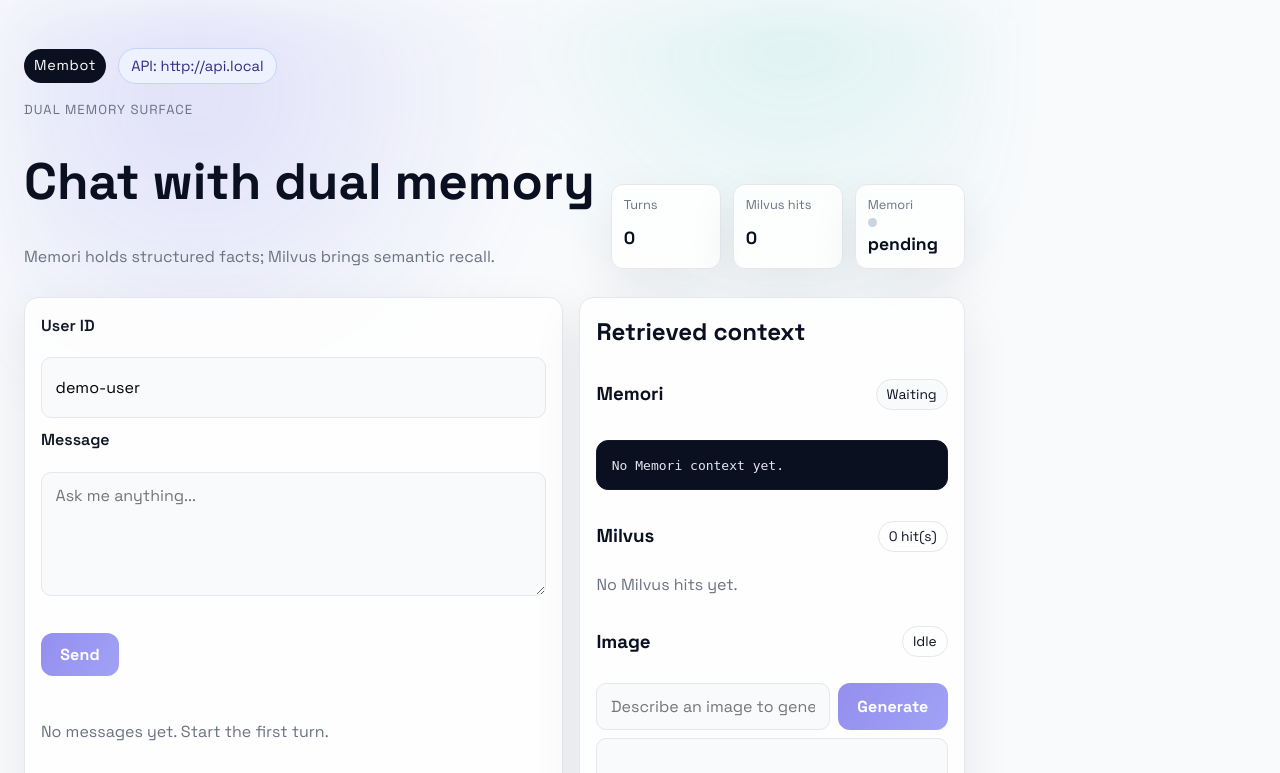
App chat flow › sends a message and renders reply and contexts
Replace the text in the field labelled "User ID" with "u1". click: (294, 388)
box: [41, 357, 546, 418]
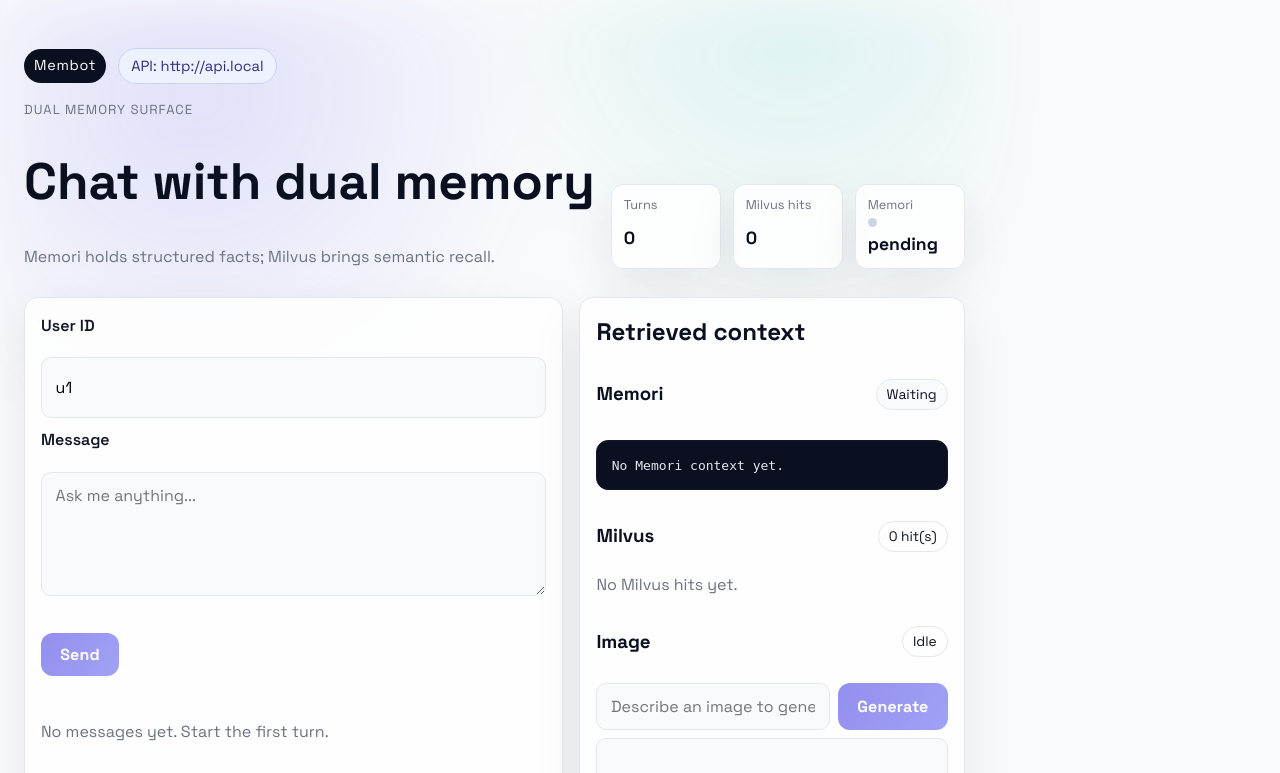
Type "Hi bot" into the text box labelled "Message". click: (294, 534)
box: [41, 472, 546, 596]
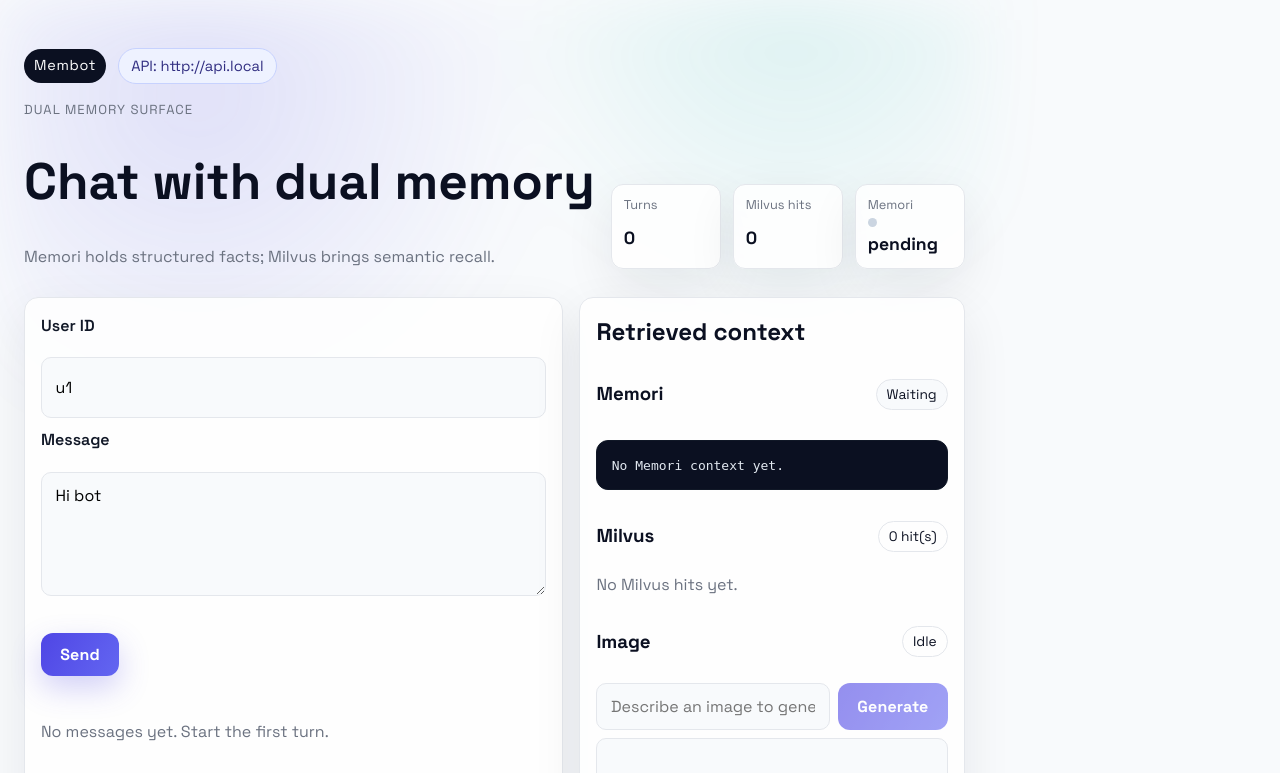
Click the button "Send". click: (80, 655)
box: [41, 633, 119, 676]
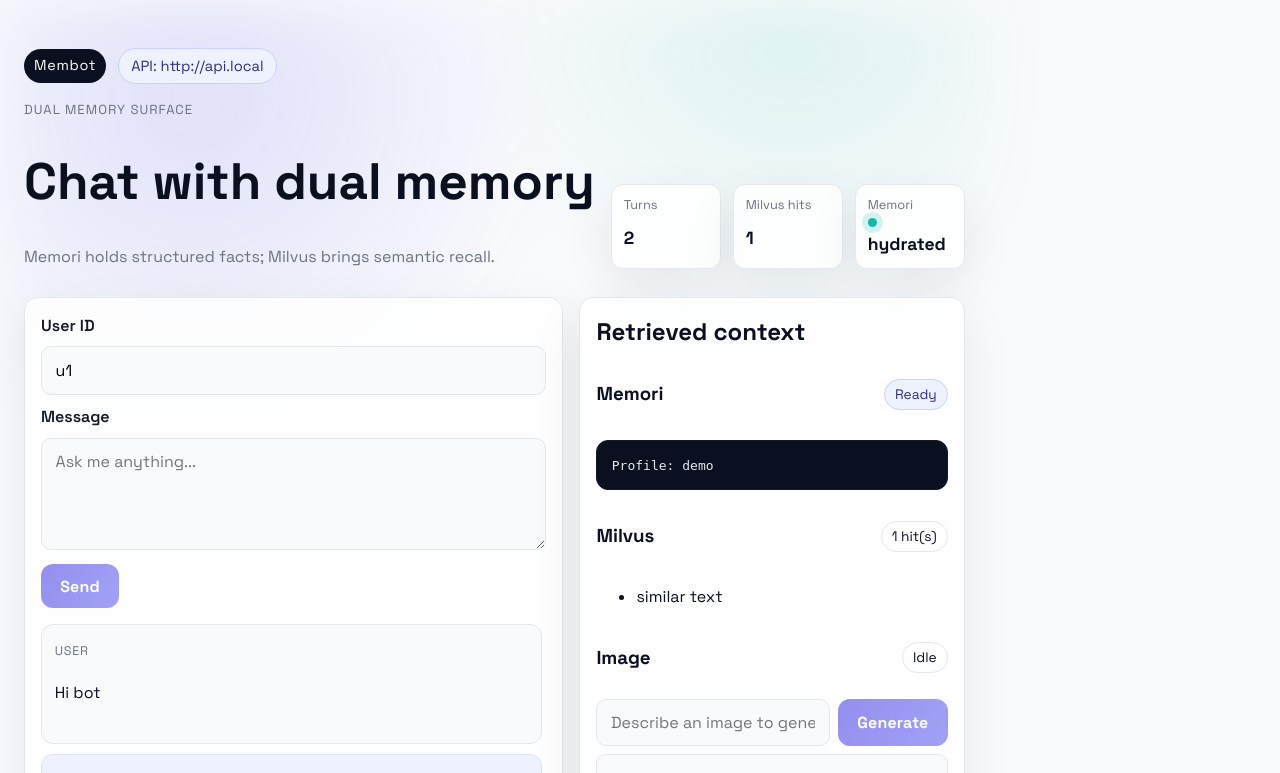
Now the text "Profile: demo" is shown, box [596, 440, 948, 490]
Now the list item "similar text" is shown, box [636, 586, 723, 607]
